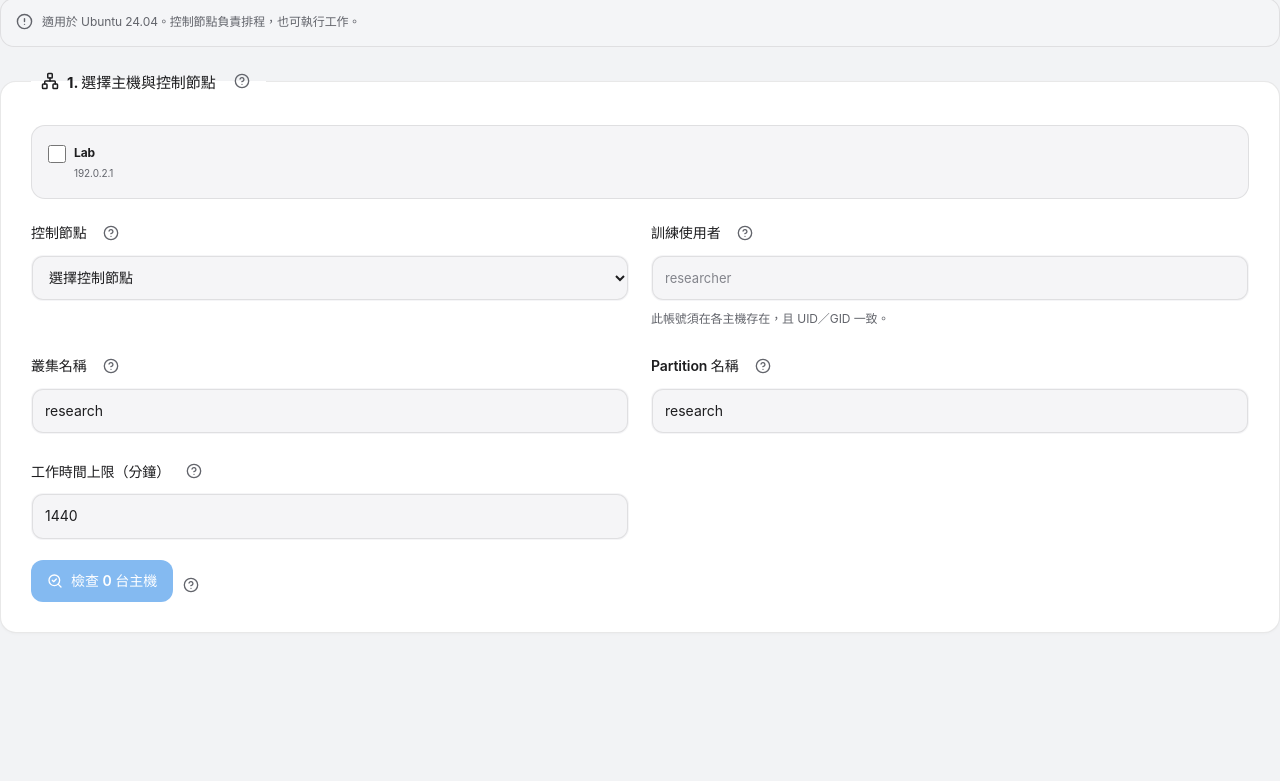
Test: leaves GPUs unassigned, invalidates edited plans and clears sudo input after apply
Later steps or results of the test are not shown.
Click the checkbox labelled "Lab 192.0.2.1".
click(57, 154)  # box [48,145,66,163]
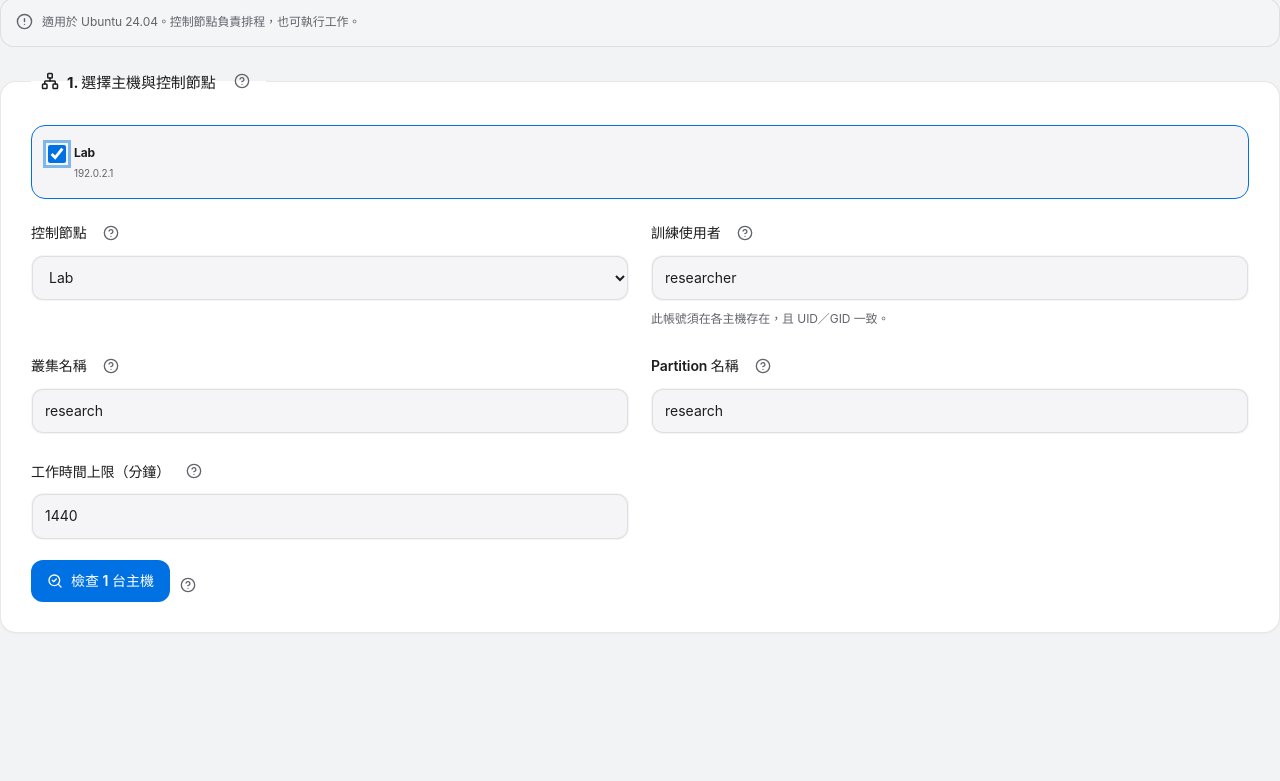
Click the button "檢查 1 台主機".
click(100, 581)  # box [31,560,170,602]
(page scrolled)
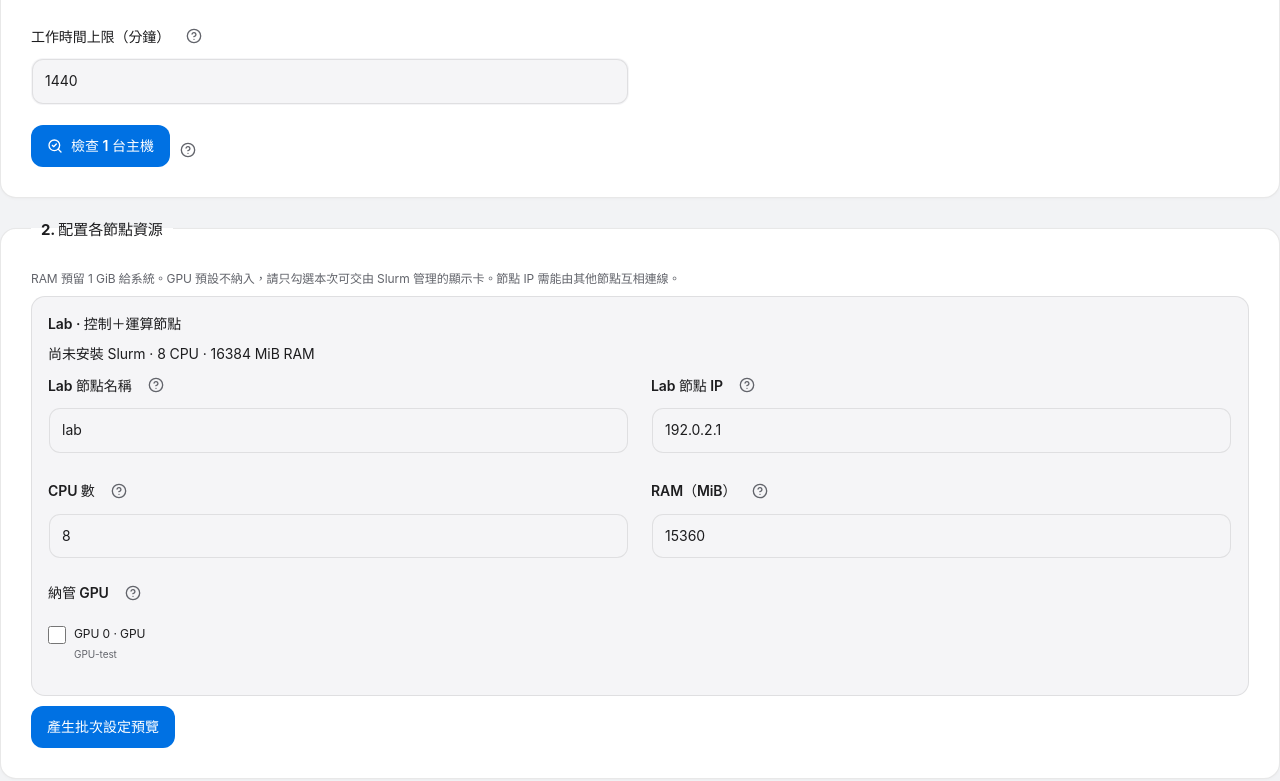
Check: the checkbox labelled "GPU 0 · GPU GPU-test" is not checked, box [48,626,66,644]
Click the button "產生批次設定預覽".
click(103, 726)  # box [31,706,175,748]
(page scrolled)
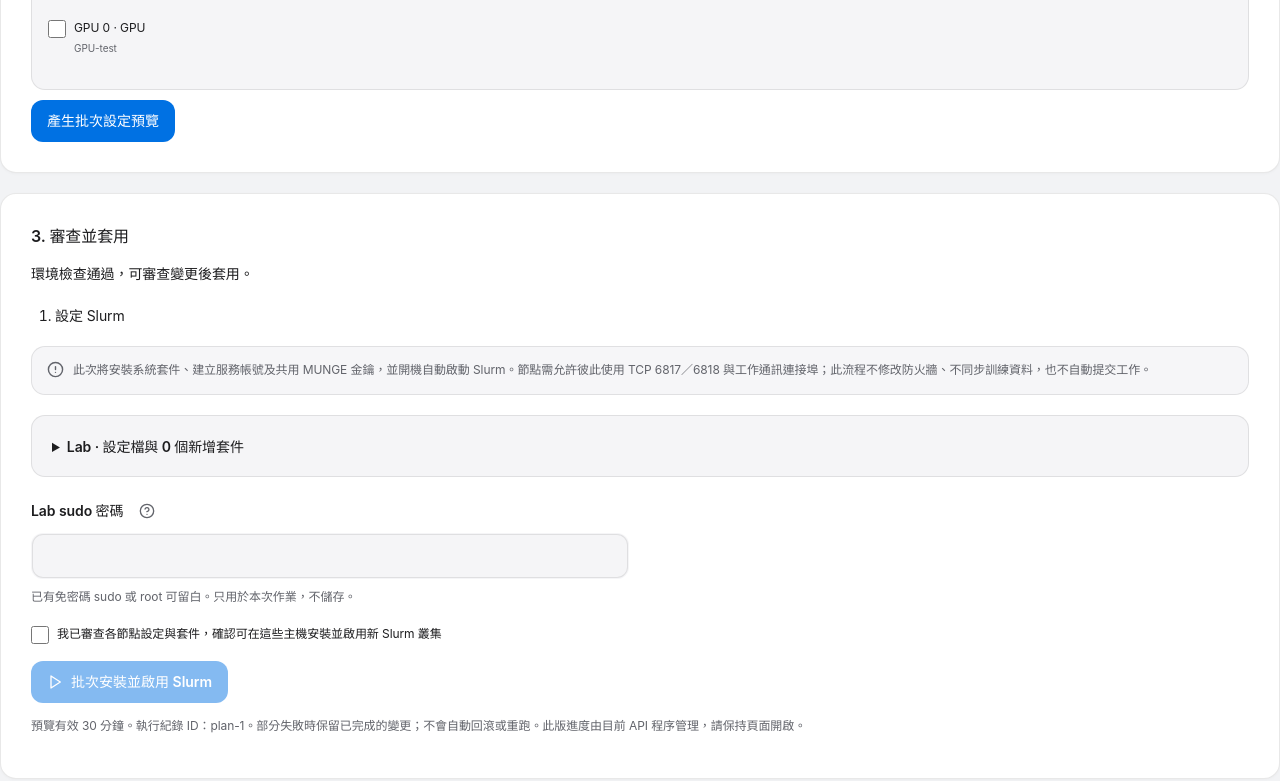
Check: the button "批次安裝並啟用 Slurm" is disabled, box [31,661,228,703]
Type "private-sudo" into the password field labelled "Lab sudo 密碼".
click(330, 556); type("private-sudo")  # box [31,533,629,580]
Click the checkbox labelled "我已審查各節點設定與套件，確認可在這些主機安裝並啟用新 Slurm 叢集".
click(40, 635)  # box [31,626,49,644]
(page scrolled)
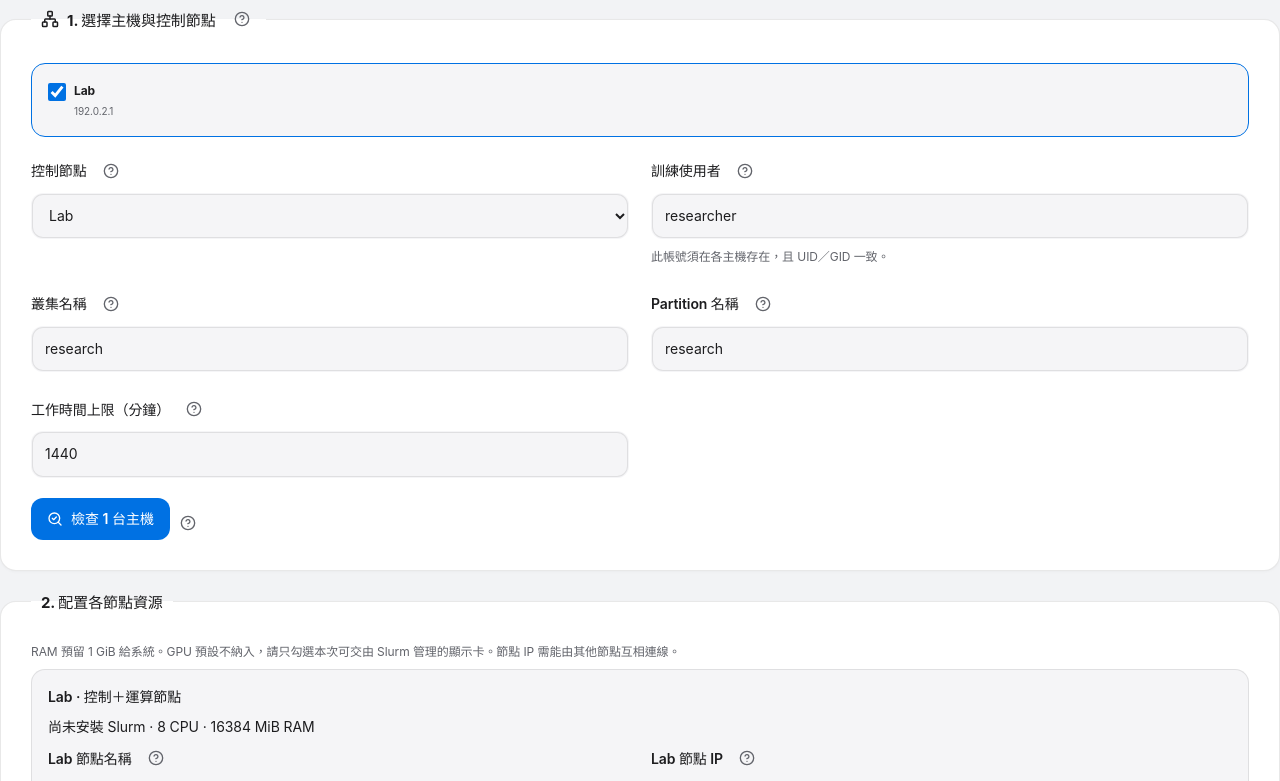
Type "2" into the field labelled "Partition 名稱".
click(950, 349); type("2")  # box [651,326,1249,372]
(page scrolled)
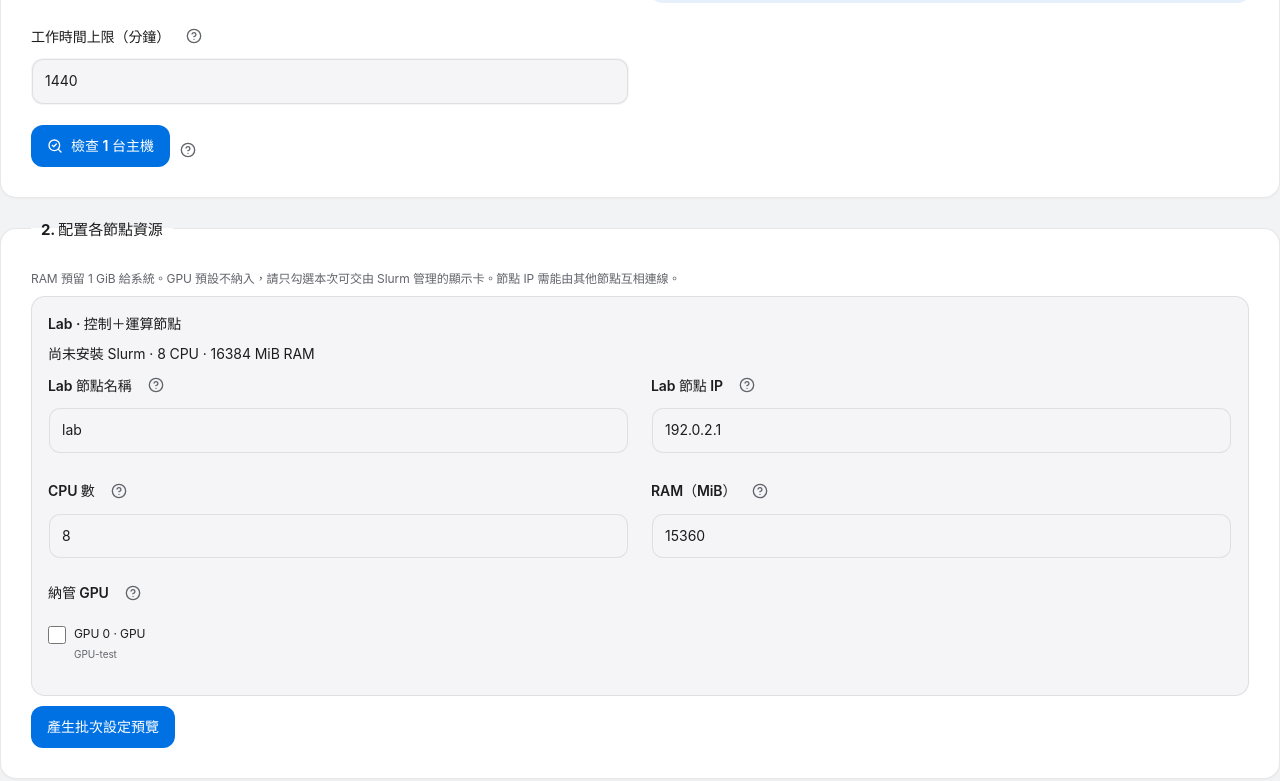
Check: the button "批次安裝並啟用 Slurm" is not shown
Click the button "產生批次設定預覽".
click(103, 726)  # box [31,706,175,748]
(page scrolled)
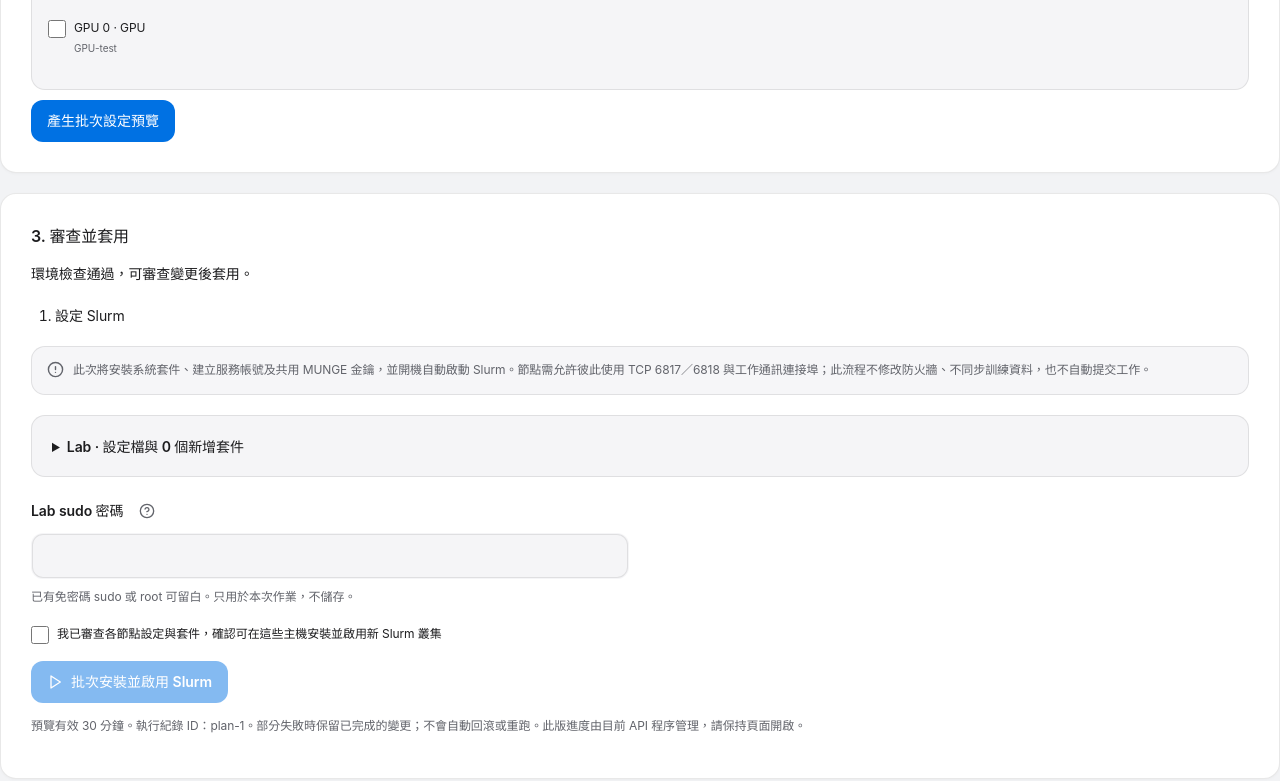
Check: the password field labelled "Lab sudo 密碼" is empty, box [31,533,629,580]
Check: the button "批次安裝並啟用 Slurm" is shown, box [31,661,228,703]
